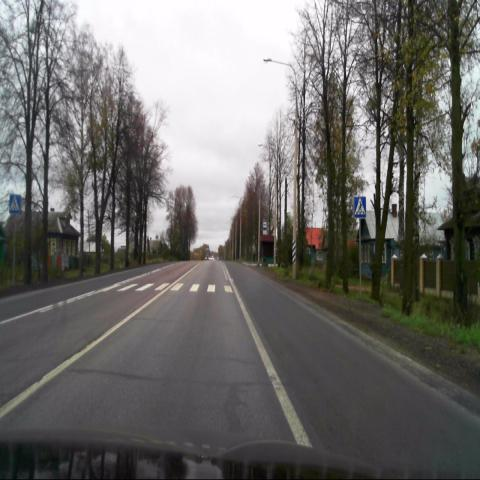5_19_1: (354, 196, 366, 218)
